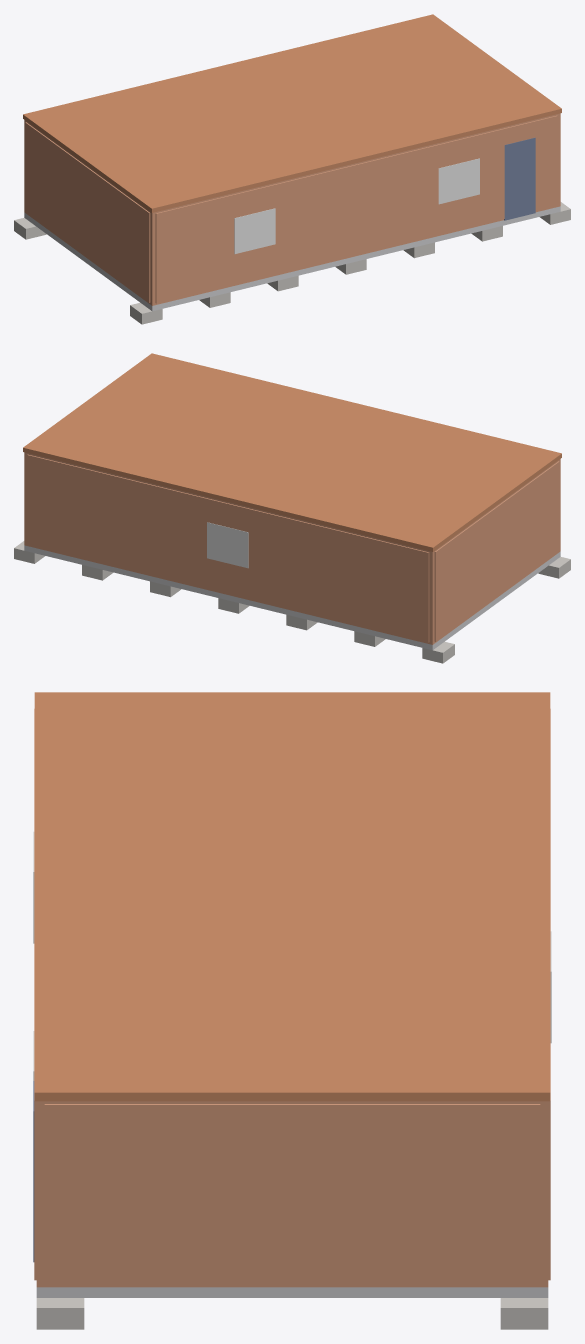
The model's file is Studio-40-Base-Terracotta-LOD0.glb.
3 renders of one model, top to bottom at view 1: azimuth 30°, elevation 25°; view 2: azimuth 150°, elevation 25°; view 3: azimuth 270°, elevation 25°, orthographic. The views are drawn at different scales.
Parts seen in each view (by area): view 1: RoofMain, ExteriorPanelsStandard, BaseFrame, WindowsStandard, ExteriorShell, FoundationBlocks, EntryDoor; view 2: RoofMain, ExteriorPanelsStandard, BaseFrame, ExteriorShell, FoundationBlocks, WindowsStandard; view 3: RoofMain, ExteriorPanelsStandard, ExteriorShell, BaseFrame, FoundationBlocks.
Part boxes in pixels (x1=…): RoofMain: x1=23, y1=14, x2=561, y2=212; ExteriorPanelsStandard: x1=25, y1=115, x2=557, y2=303; BaseFrame: x1=24, y1=206, x2=560, y2=311; WindowsStandard: x1=234, y1=158, x2=479, y2=254; ExteriorShell: x1=24, y1=113, x2=560, y2=305; FoundationBlocks: x1=14, y1=202, x2=570, y2=324; EntryDoor: x1=504, y1=137, x2=535, y2=220; RoofMain: x1=23, y1=353, x2=561, y2=551; ExteriorPanelsStandard: x1=27, y1=454, x2=559, y2=642; BaseFrame: x1=24, y1=545, x2=560, y2=650; ExteriorShell: x1=24, y1=452, x2=560, y2=644; FoundationBlocks: x1=14, y1=541, x2=570, y2=663; WindowsStandard: x1=207, y1=522, x2=248, y2=568; RoofMain: x1=34, y1=692, x2=550, y2=1101; ExteriorPanelsStandard: x1=34, y1=709, x2=550, y2=1284; ExteriorShell: x1=36, y1=1101, x2=548, y2=1287; BaseFrame: x1=36, y1=1287, x2=548, y2=1297; FoundationBlocks: x1=36, y1=1298, x2=548, y2=1329.
Bounding box in the file's own units: 12.49 × 3.17 × 6.53.
